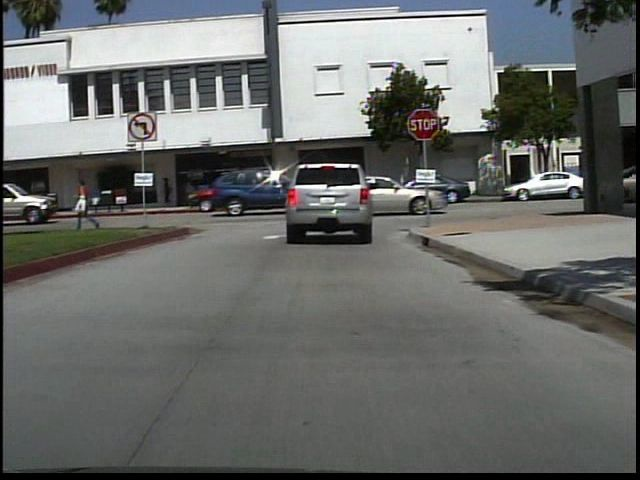person: (72, 174, 107, 233), (293, 163, 322, 234), (160, 173, 179, 209), (182, 173, 200, 208)
